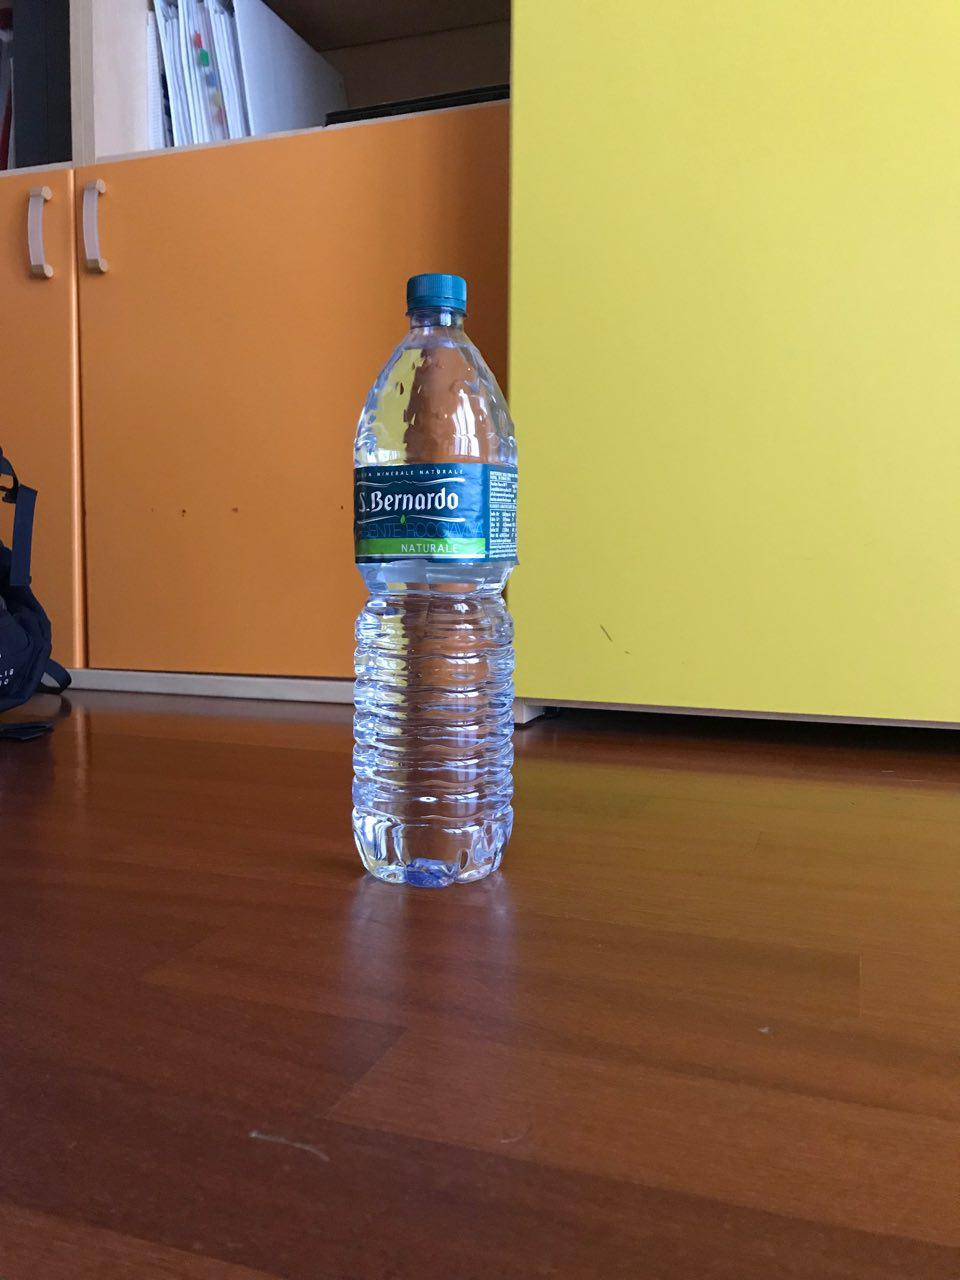san_bernardo: (349, 269, 520, 891)
